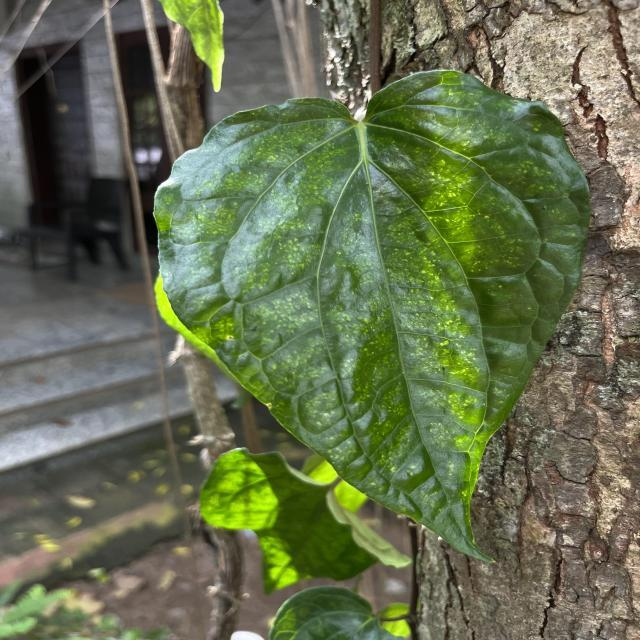Piper betle: (146, 66, 595, 569)
